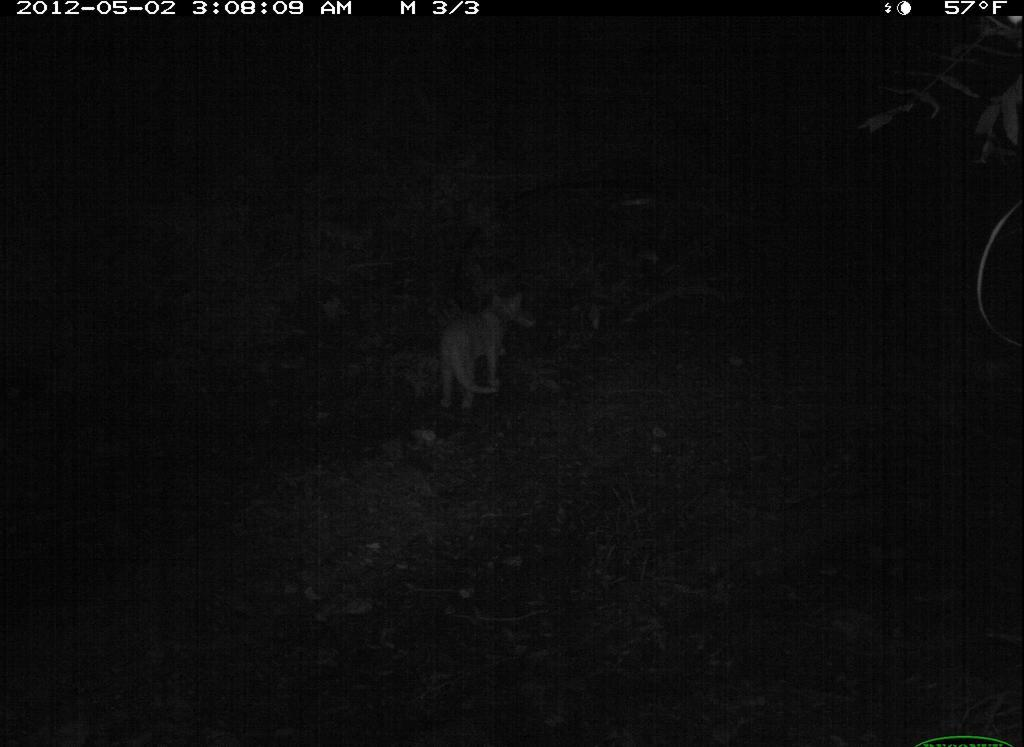cat: (418, 273, 528, 427)
